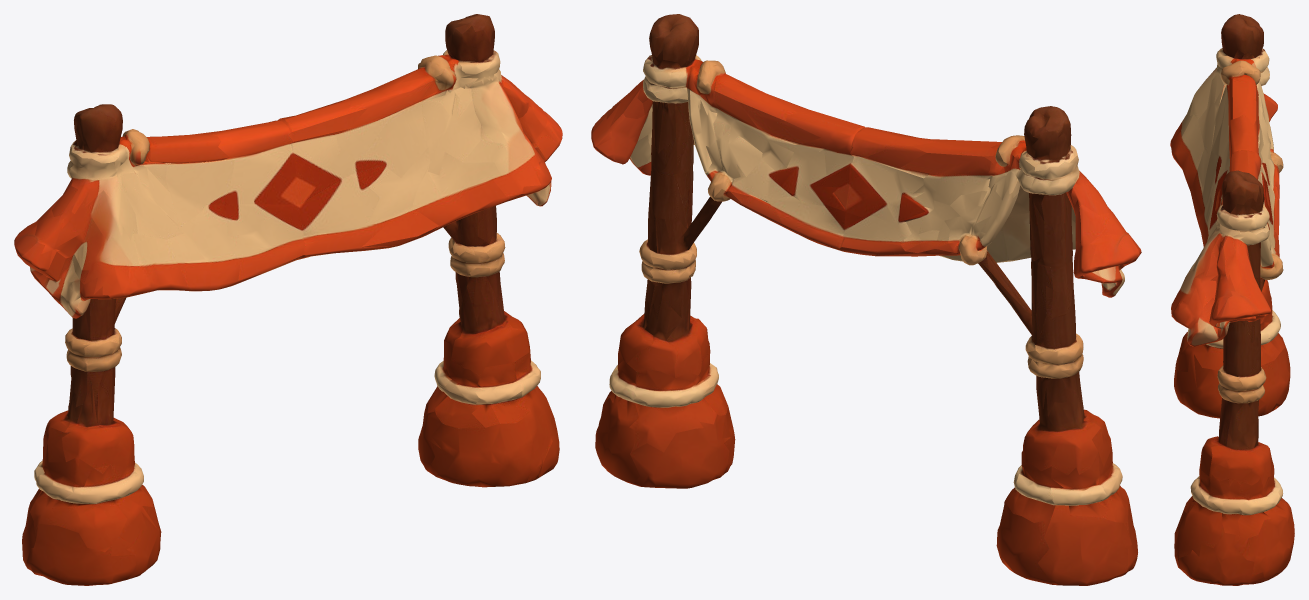
Rendered from canyon-tent.glb.
The picture shows the model from 3 angles, left to right: view 1: azimuth 30°, elevation 25°; view 2: azimuth 150°, elevation 25°; view 3: azimuth 270°, elevation 25°; orthographic projection. The views are drawn at different scales.
Size of the model in its own units: 1.9 by 1.52 by 0.445.
1 material, 1 textured.
